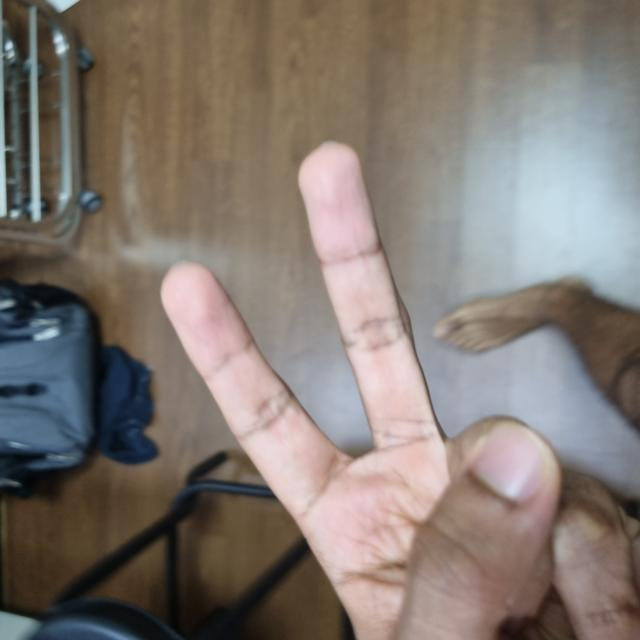Scissors: (0, 167, 490, 640)
